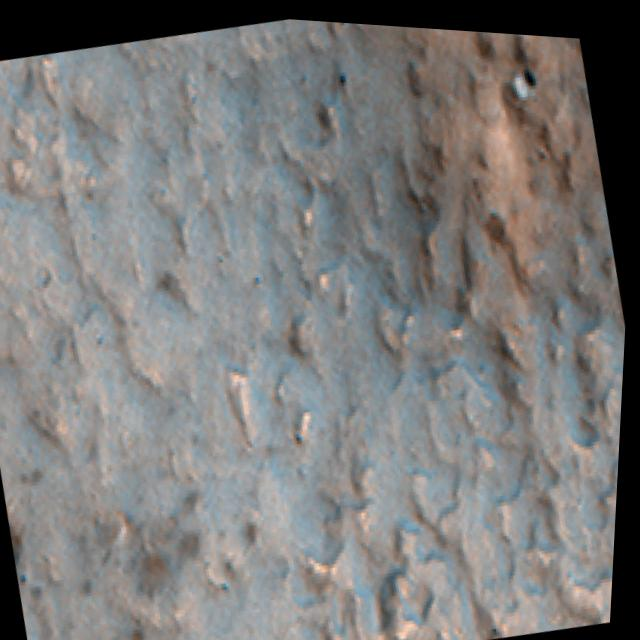Crater: (471, 25, 561, 128)
